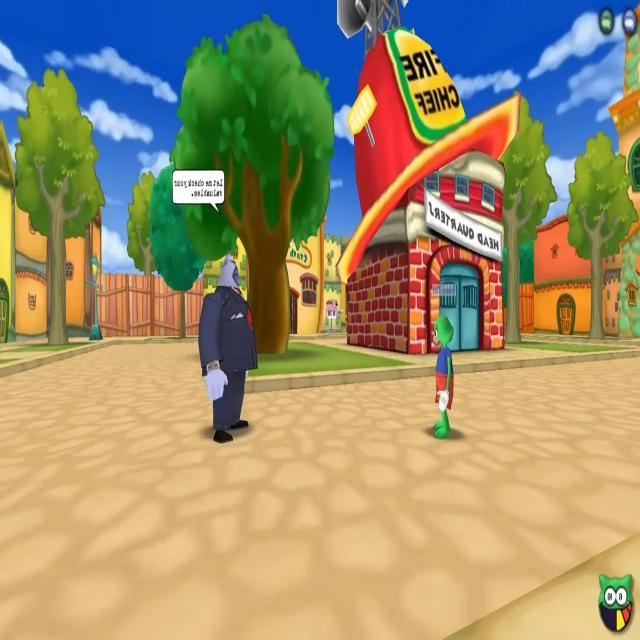bottomfeeder: (172, 172, 261, 447)
